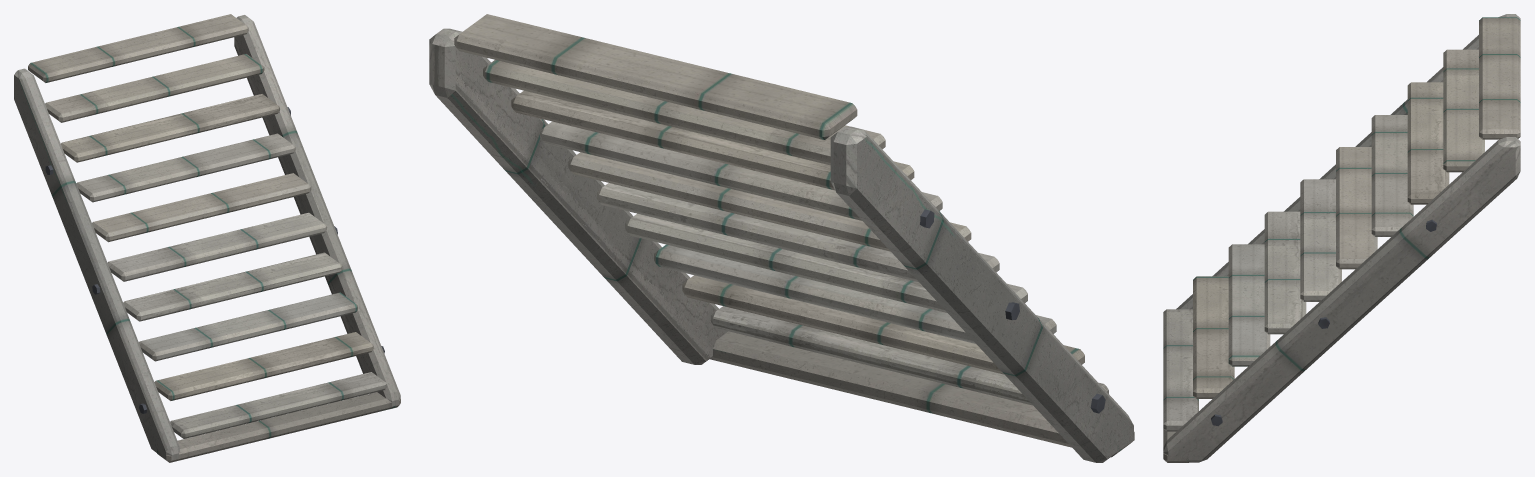
Rendered from merdiven.glb.
3 views of the same model, side by side, from view 1: azimuth 30°, elevation 25°; view 2: azimuth 150°, elevation 25°; view 3: azimuth 270°, elevation 25° (orthographic). The views are drawn at different scales.
Visible parts, largest first — view 1: merdiven; view 2: merdiven; view 3: merdiven.
Part boxes in pixels (x1,y1,x2,y2): merdiven: (14, 14, 400, 462); merdiven: (429, 14, 1134, 462); merdiven: (1163, 14, 1520, 462).
Bounding box in the file's own units: 2.67 × 3.02 × 3.
1 material, 1 textured.
